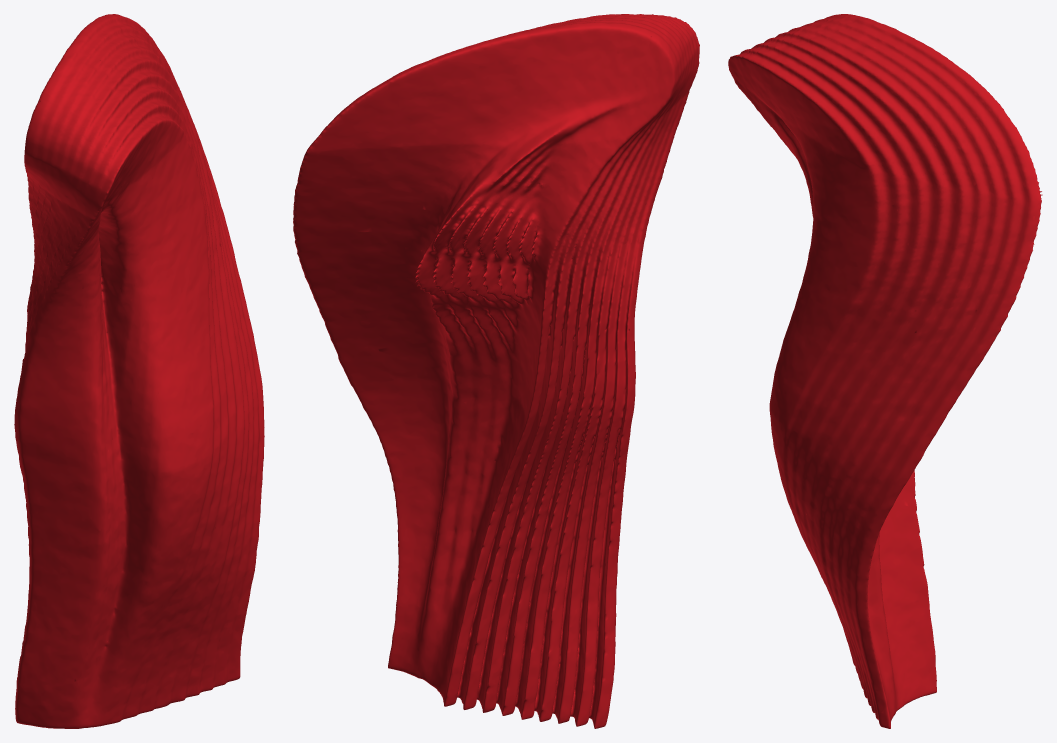
3 renders of one model, left to right at view 1: azimuth 30°, elevation 25°; view 2: azimuth 150°, elevation 25°; view 3: azimuth 270°, elevation 25°, orthographic. The views are drawn at different scales.
Visible parts, largest first — view 1: crest; view 2: crest; view 3: crest.
Part boxes in pixels (box(x1,y1,x2,y2)): crest: box(14, 14, 264, 728); crest: box(293, 14, 699, 728); crest: box(728, 14, 1042, 728).
Size of the model in its own units: 0.8031 by 1.83 by 0.8367.
